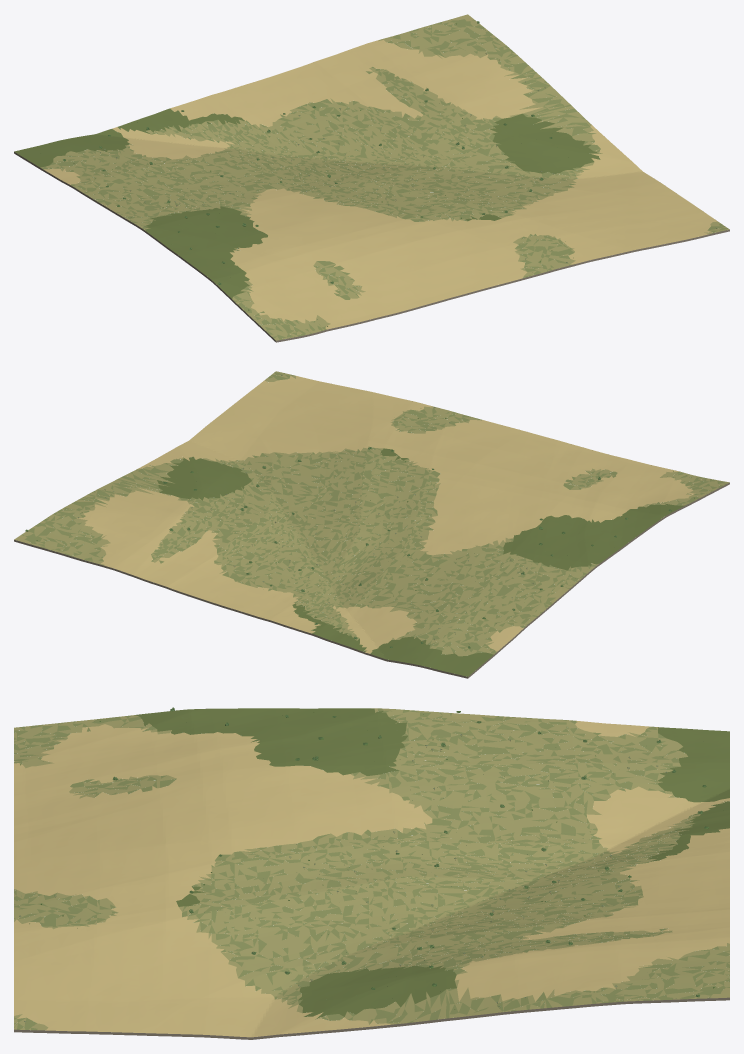
File: parca_-2_-4-yakin.glb
The picture shows the model from 3 angles, top to bottom: view 1: azimuth 30°, elevation 25°; view 2: azimuth 150°, elevation 25°; view 3: azimuth 270°, elevation 25°; orthographic projection. The views are drawn at different scales.
Visible parts, largest first — view 1: parca_-2_-4_arazi, parca_-2_-4_bitkiler; view 2: parca_-2_-4_arazi, parca_-2_-4_bitkiler; view 3: parca_-2_-4_arazi, parca_-2_-4_bitkiler.
Part boxes in pixels (left/top/right/bottom): parca_-2_-4_arazi: left=14, top=14, right=729, bottom=342; parca_-2_-4_bitkiler: left=63, top=21, right=716, bottom=326; parca_-2_-4_arazi: left=14, top=371, right=729, bottom=678; parca_-2_-4_bitkiler: left=25, top=375, right=694, bottom=652; parca_-2_-4_arazi: left=14, top=708, right=729, bottom=1039; parca_-2_-4_bitkiler: left=19, top=707, right=723, bottom=1023.
Bounding box in the file's own units: 1000 × 72.12 × 1000.
